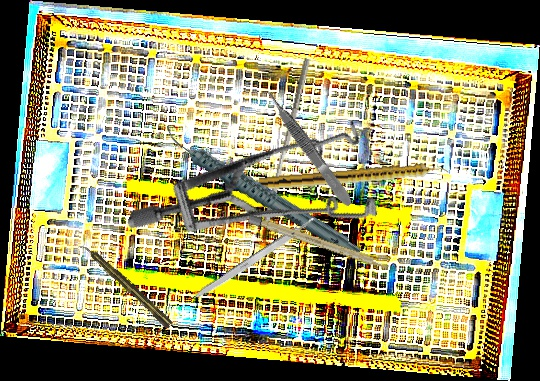Handpiece: (161, 90, 362, 292), (78, 239, 175, 331), (258, 160, 449, 195)
Pusher: (261, 56, 311, 230)
Scalpel Handle: (189, 215, 319, 305), (247, 214, 391, 271)
Speculum: (125, 58, 405, 311)
Tissue Forceps: (263, 86, 355, 210)
